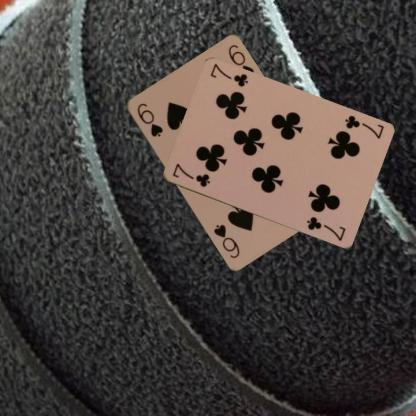6s: (134, 100, 164, 138)
7c: (170, 161, 212, 189), (342, 113, 385, 140)
